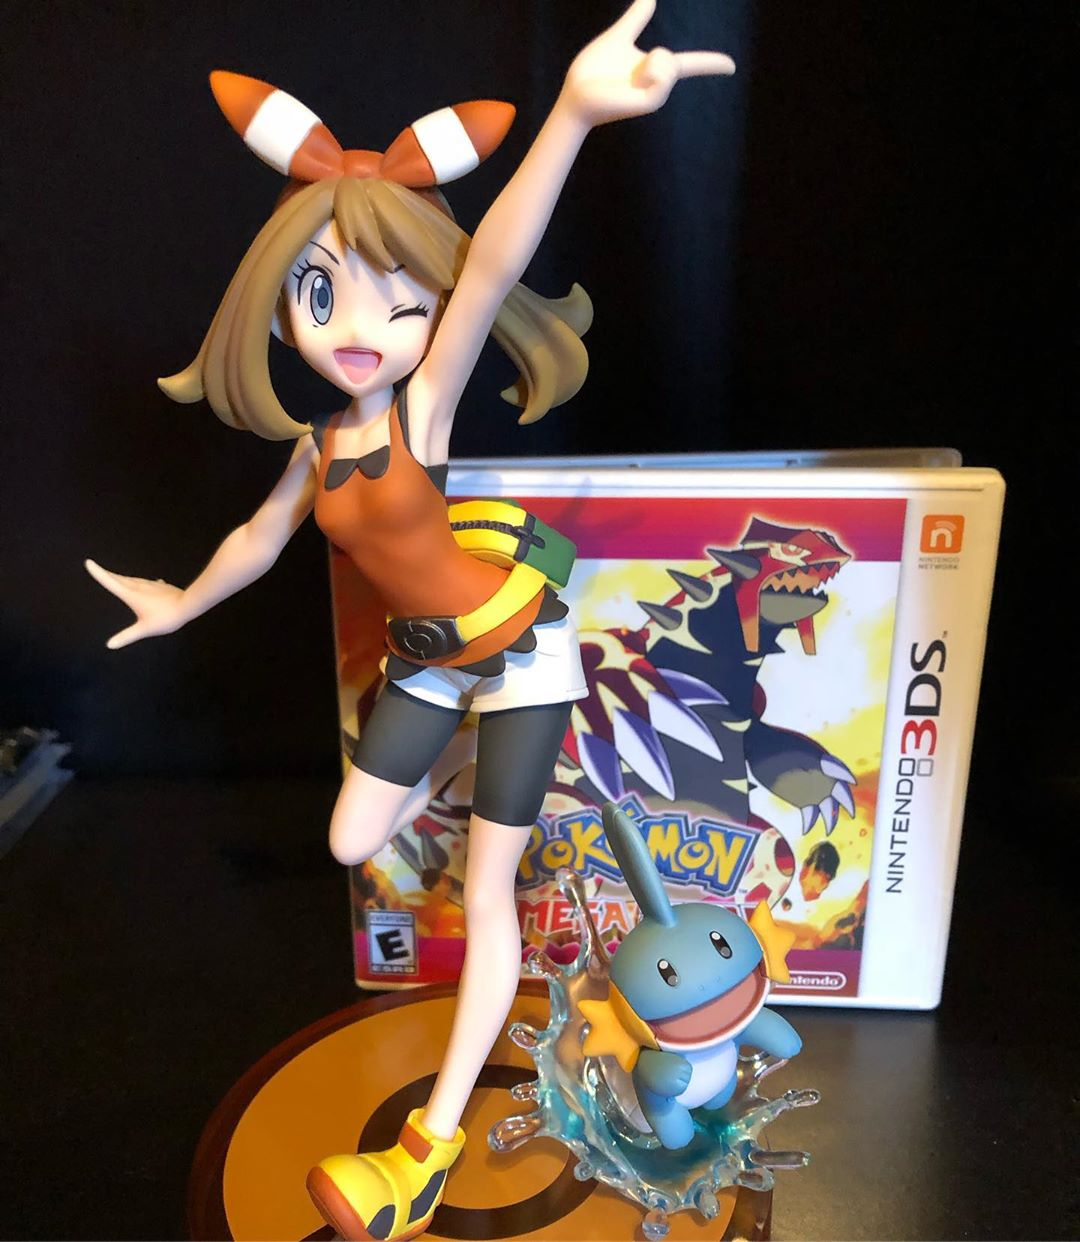mudkip: (542, 815, 806, 1163)
